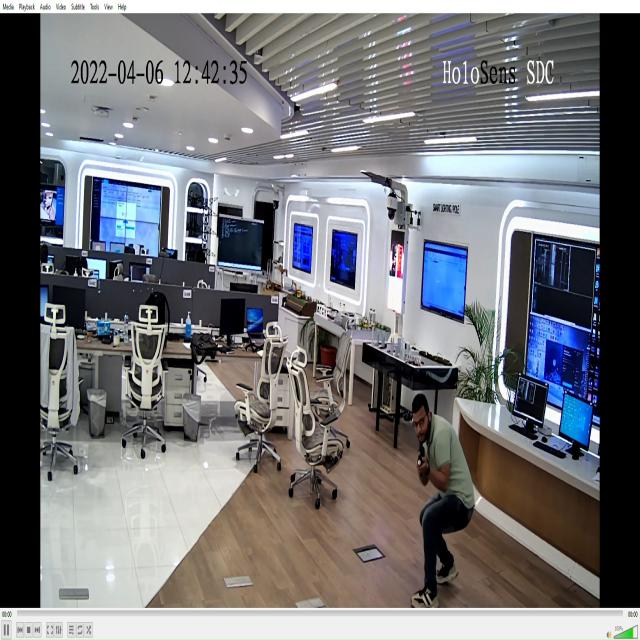long weapon: (412, 433, 432, 489)
